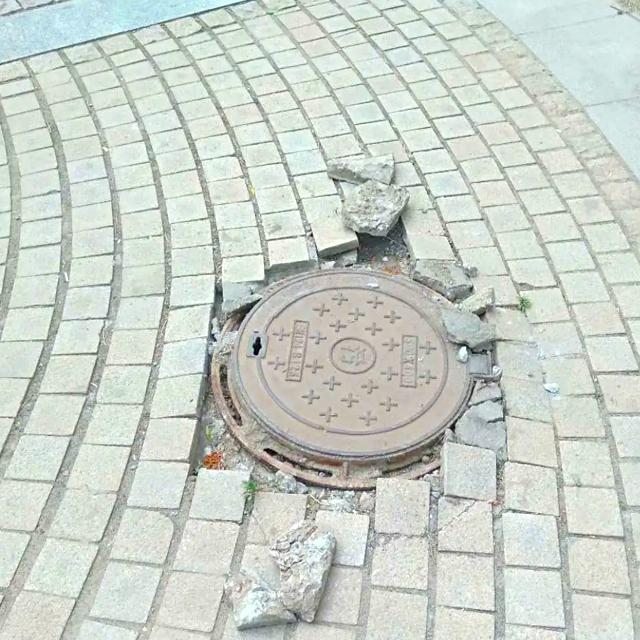circle: (160, 202, 545, 540)
